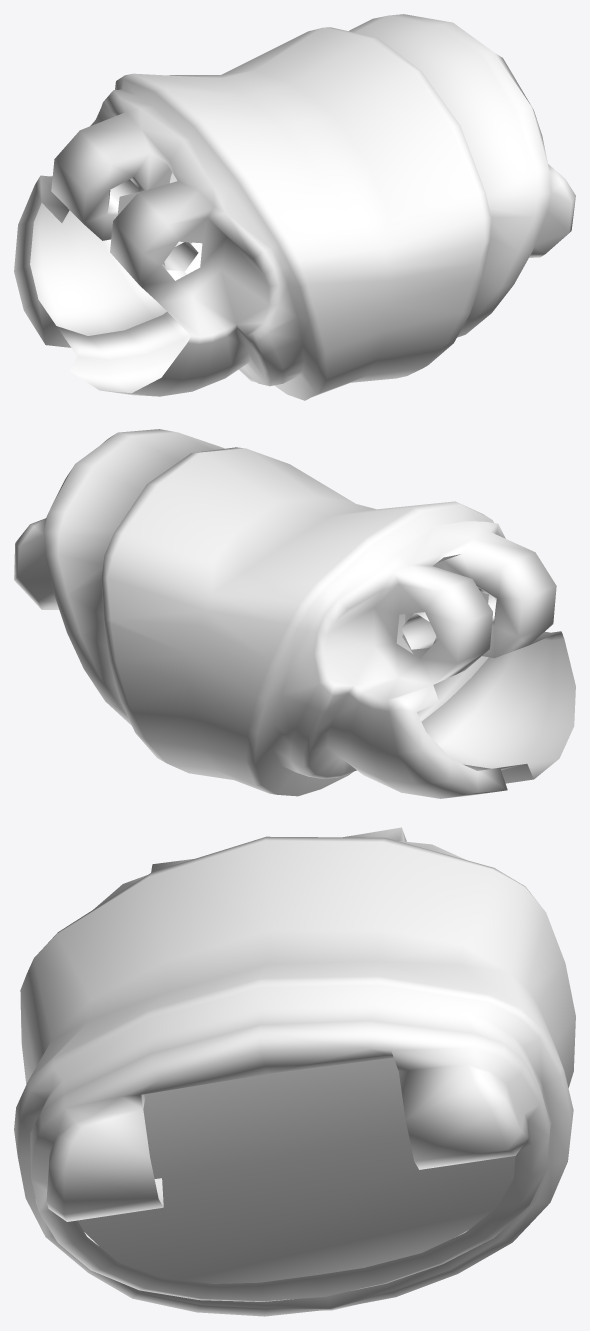
Rendered from LFinger11.dae.
The picture shows the model from 3 angles, top to bottom: view 1: azimuth 30°, elevation 25°; view 2: azimuth 150°, elevation 25°; view 3: azimuth 270°, elevation 25°; orthographic projection. The views are drawn at different scales.
Visible parts, largest first — view 1: LFinger11; view 2: LFinger11; view 3: LFinger11.
Part boxes in pixels (box(x1,y1,x2,y2)): LFinger11: box(14, 14, 575, 400); LFinger11: box(14, 429, 575, 798); LFinger11: box(14, 827, 575, 1316).
Bounding box in the file's own units: 0.1938 × 0.16 × 0.1192.
1 material, 1 textured.
